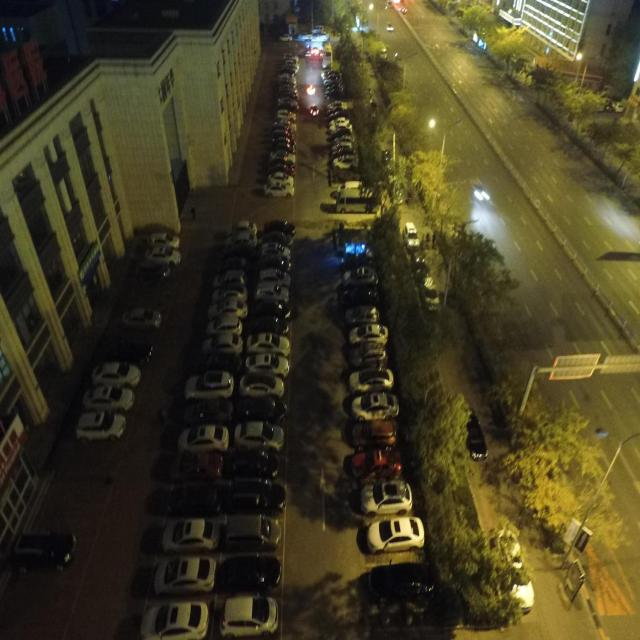car: (12, 530, 78, 572), (559, 558, 585, 605)
tree: (410, 367, 531, 630), (489, 373, 631, 560)
